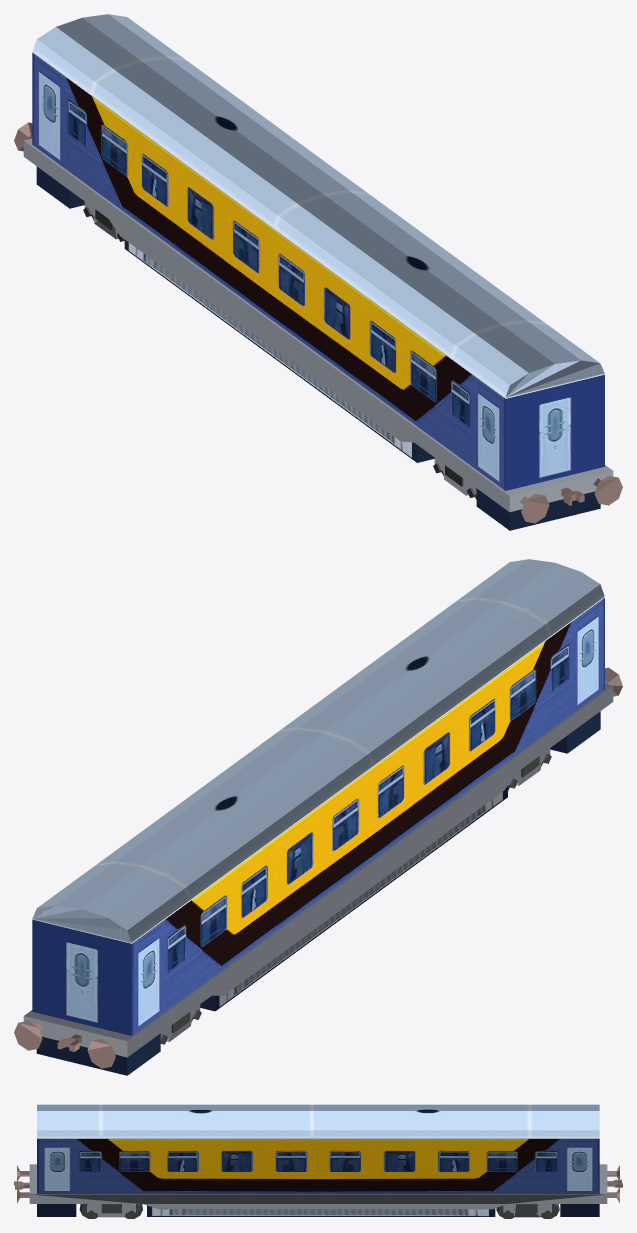
File: passengercar.dae
The picture shows the model from 3 angles, top to bottom: view 1: azimuth 30°, elevation 25°; view 2: azimuth 150°, elevation 25°; view 3: azimuth 270°, elevation 25°; orthographic projection. The views are drawn at different scales.
Parts seen in each view (by area): view 1: 9.0.242.0_Pts_Material_Surf, 9.0.242.0_Pts_Material__4__Surf, 9.0.242.0_Pts_Material__2__Surf; view 2: 9.0.242.0_Pts_Material_Surf, 9.0.242.0_Pts_Material__4__Surf, 9.0.242.0_Pts_Material__2__Surf; view 3: 9.0.242.0_Pts_Material_Surf, 9.0.242.0_Pts_Material__4__Surf, 9.0.242.0_Pts_Material__3__Surf, 9.0.242.0_Pts_Material__2__Surf.
Part boxes in pixels (x1,y1,x2,y2): 9.0.242.0_Pts_Material_Surf: (32,14,604,530); 9.0.242.0_Pts_Material__4__Surf: (23,138,613,512); 9.0.242.0_Pts_Material__2__Surf: (14,122,622,523); 9.0.242.0_Pts_Material_Surf: (32,559,604,1075); 9.0.242.0_Pts_Material__4__Surf: (23,684,613,1057); 9.0.242.0_Pts_Material__2__Surf: (14,667,622,1068); 9.0.242.0_Pts_Material_Surf: (37,1104,599,1216); 9.0.242.0_Pts_Material__4__Surf: (29,1164,607,1217); 9.0.242.0_Pts_Material__3__Surf: (79,1204,559,1218); 9.0.242.0_Pts_Material__2__Surf: (14,1165,622,1203).
Size of the model in its own units: 32.06 by 50.39 by 274.
4 materials, 1 textured.
